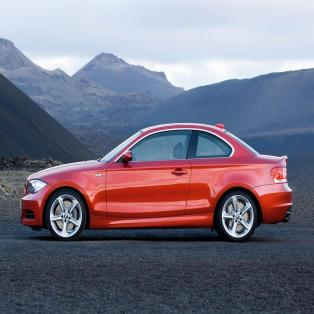Auto: (15, 108, 299, 273)
